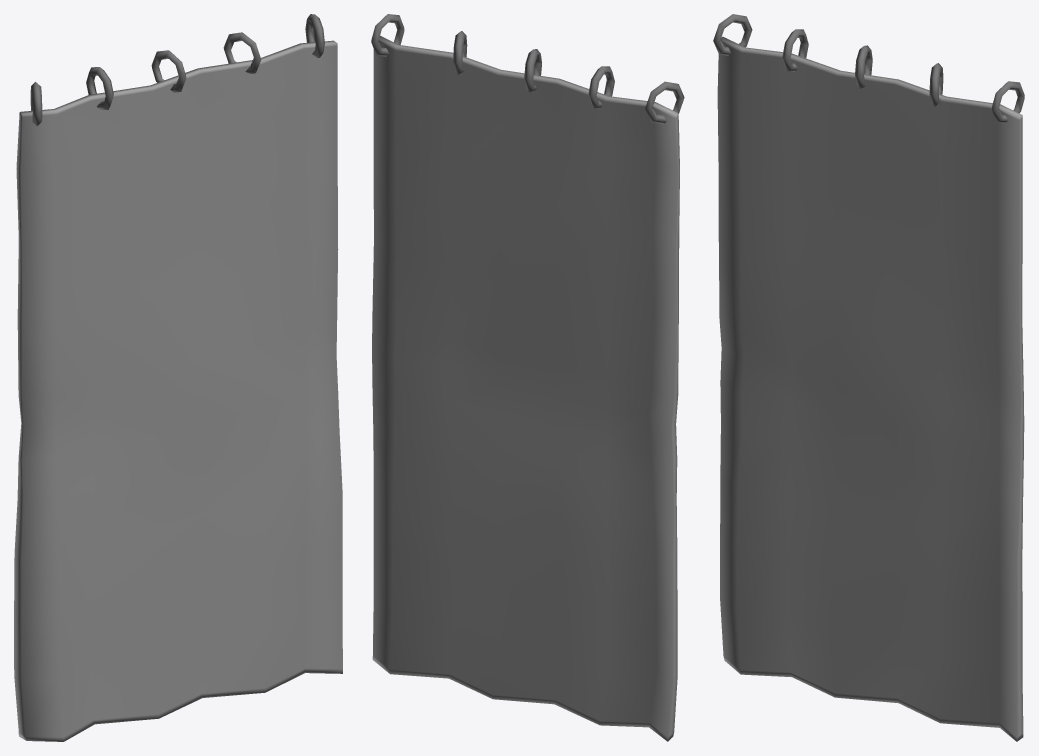
Rendered from curtain_021.fbx.
3 renders of one model, left to right at view 1: azimuth 30°, elevation 25°; view 2: azimuth 150°, elevation 25°; view 3: azimuth 330°, elevation 25°, orthographic.
Parts seen in each view (by area): view 1: curtain_021; view 2: curtain_021; view 3: curtain_021.
Boxes of the visible parts, left/top/right/bottom form: curtain_021: left=14, top=14, right=342, bottom=741; curtain_021: left=371, top=14, right=684, bottom=741; curtain_021: left=713, top=14, right=1024, bottom=741.
Size of the model in its own units: 174 by 22.83 by 348.
